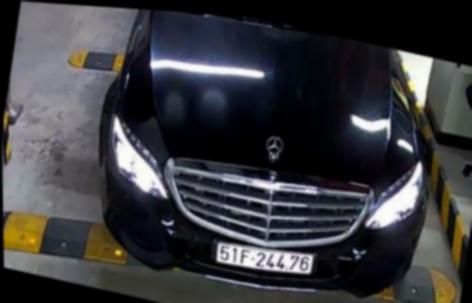License_Plate: (209, 232, 322, 283)
